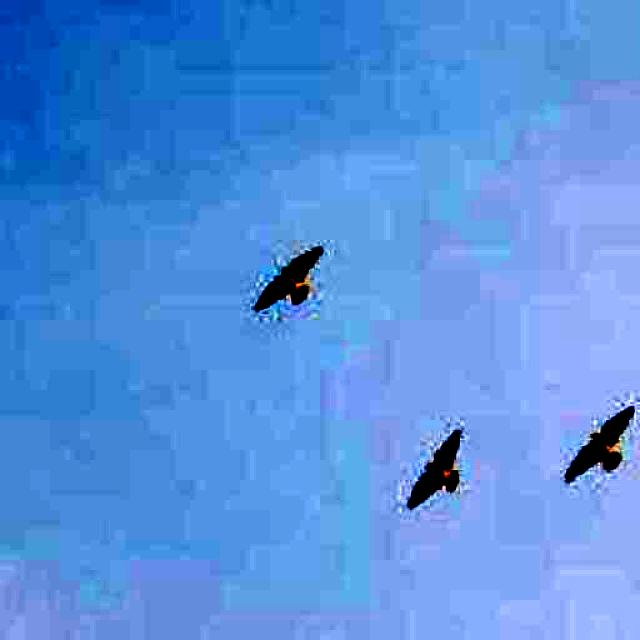airplane: (564, 406, 636, 480), (254, 248, 322, 314), (408, 429, 460, 509)
